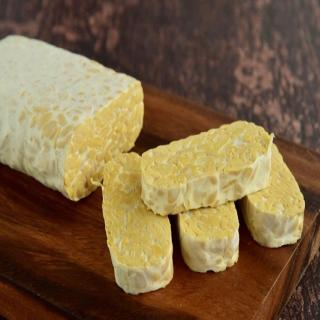Tempe: (140, 119, 276, 217), (101, 152, 175, 296), (242, 140, 306, 249), (178, 201, 240, 274)
